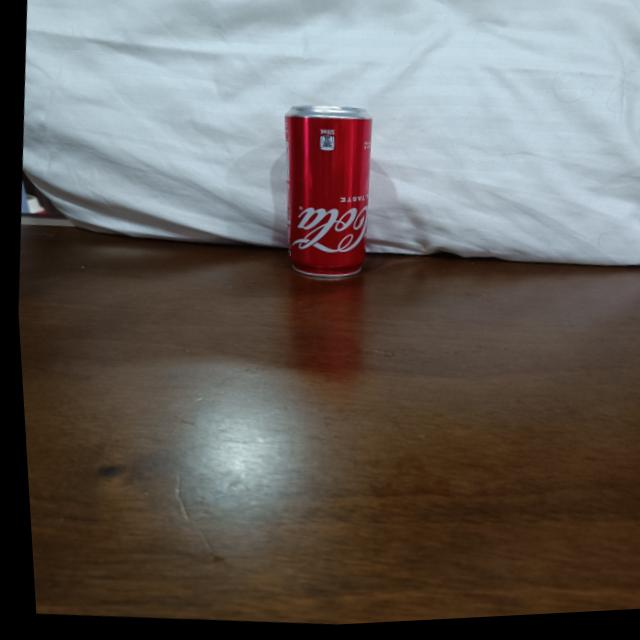coke: (268, 98, 384, 290)
